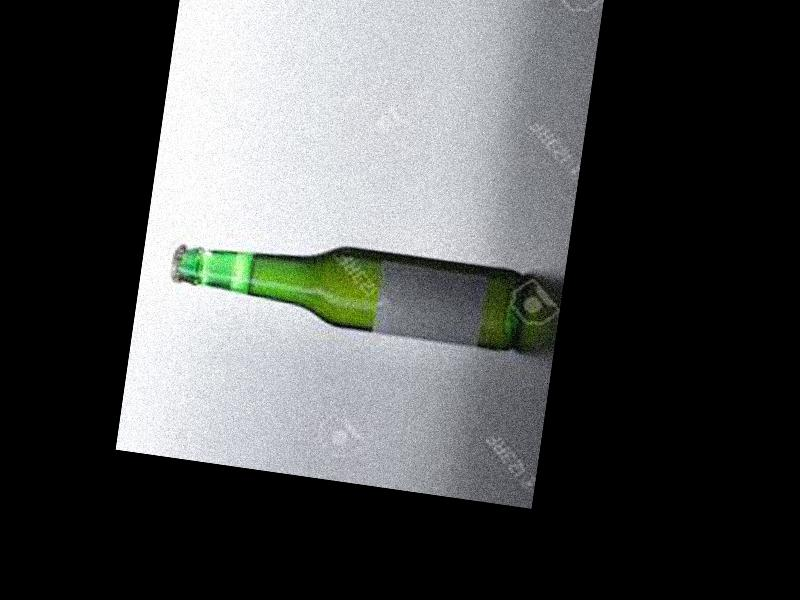Beer: (166, 222, 526, 353)
